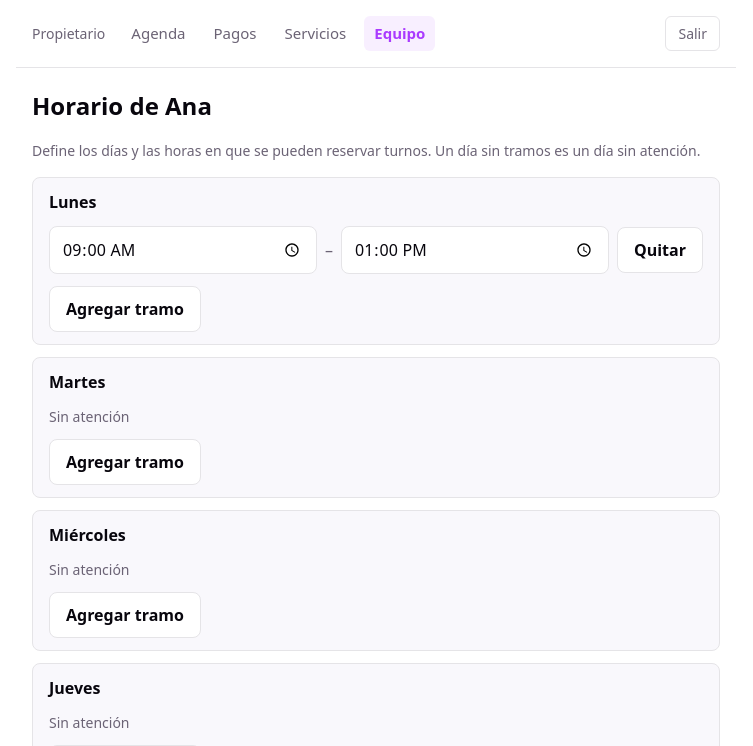
RF-16: guardar envía todo el horario con replaceAvailability y lo confirma
Expected: the time field named "Lunes · desde" is shown, 49,226 -> 317,274
Click the button with aria-label "Agregar tramo el martes": (125,462) 49,439 -> 201,485
(page scrolled)
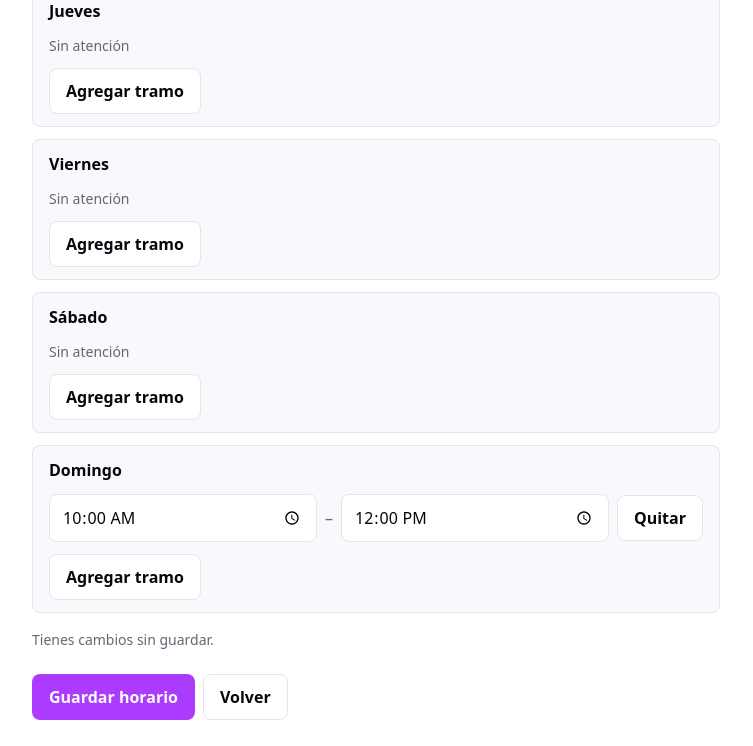
Click the button "Guardar horario": (114,697) 32,674 -> 195,720
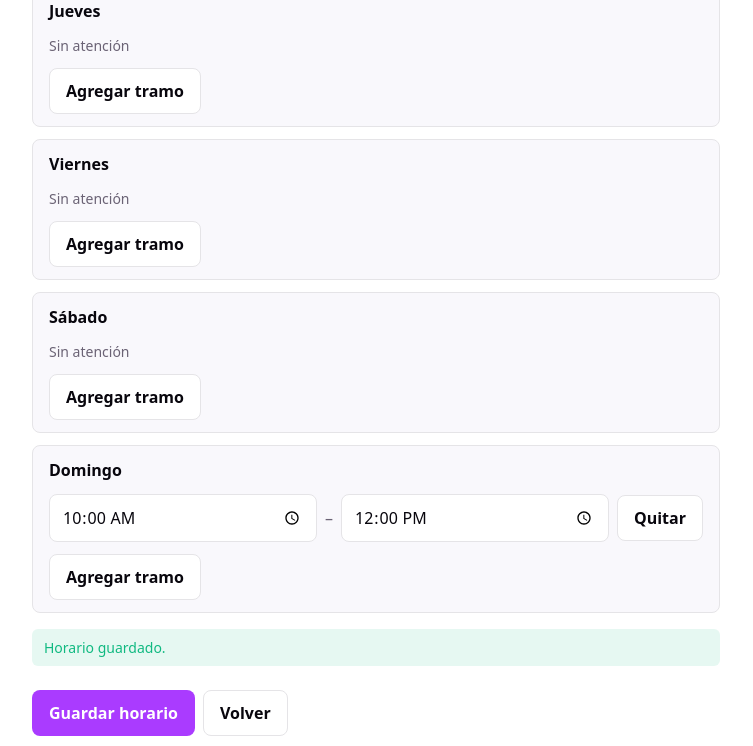
Now the text "Horario guardado." is shown, box 32,629 -> 720,666
Now the text "cambios sin guardar" is gone
